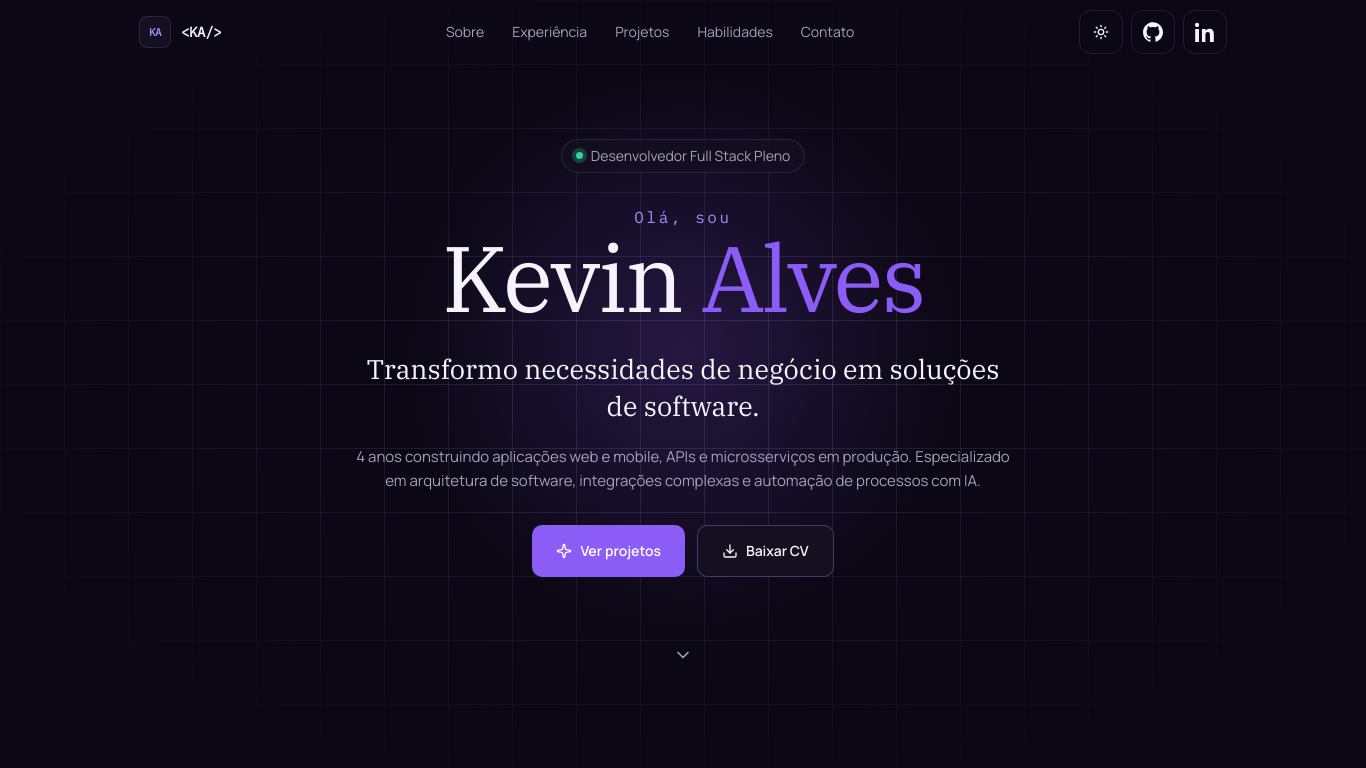
Scenario: tema › começa no tema escuro e alterna com persistência
Click the button named "Ativar tema claro": (1101, 32) [1079, 10, 1123, 54]
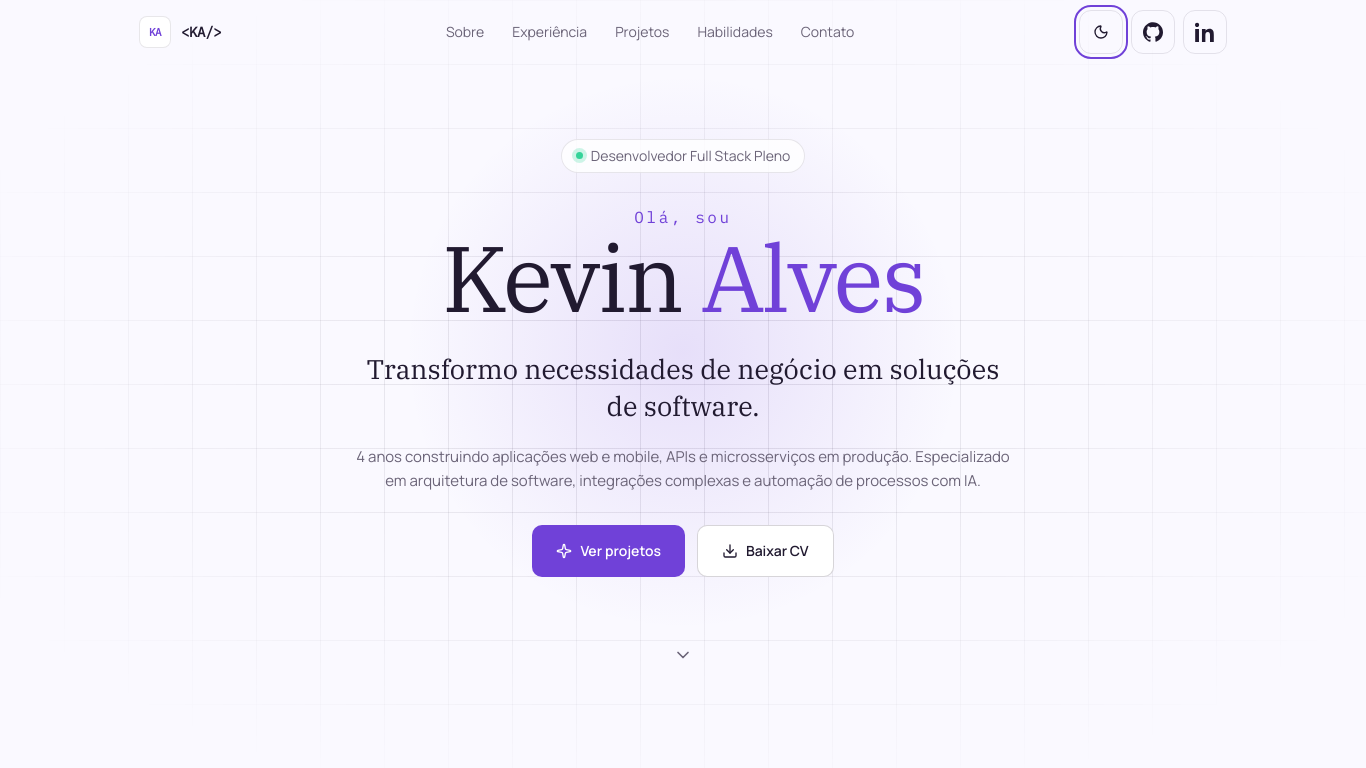
Expected: the button named "Ativar tema escuro" is shown, [1079, 10, 1123, 54]
